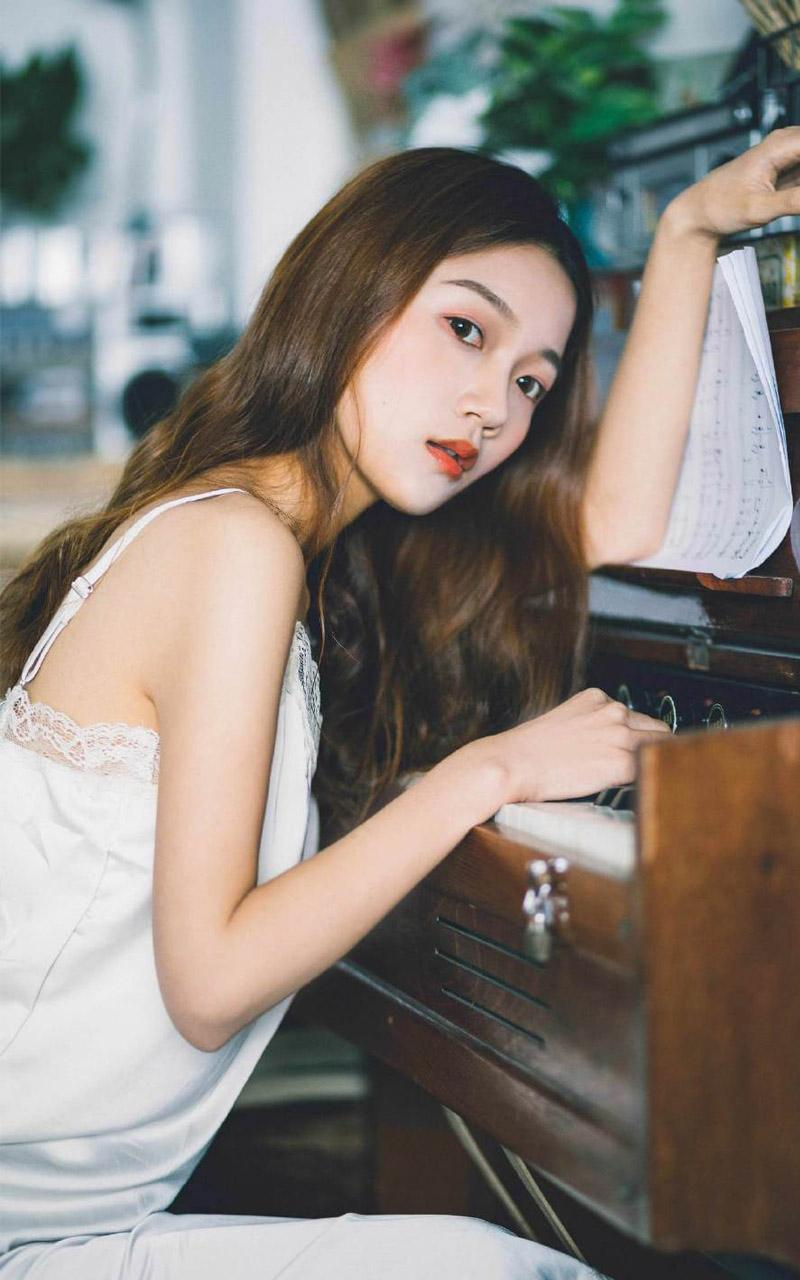person: (92, 122, 706, 996)
